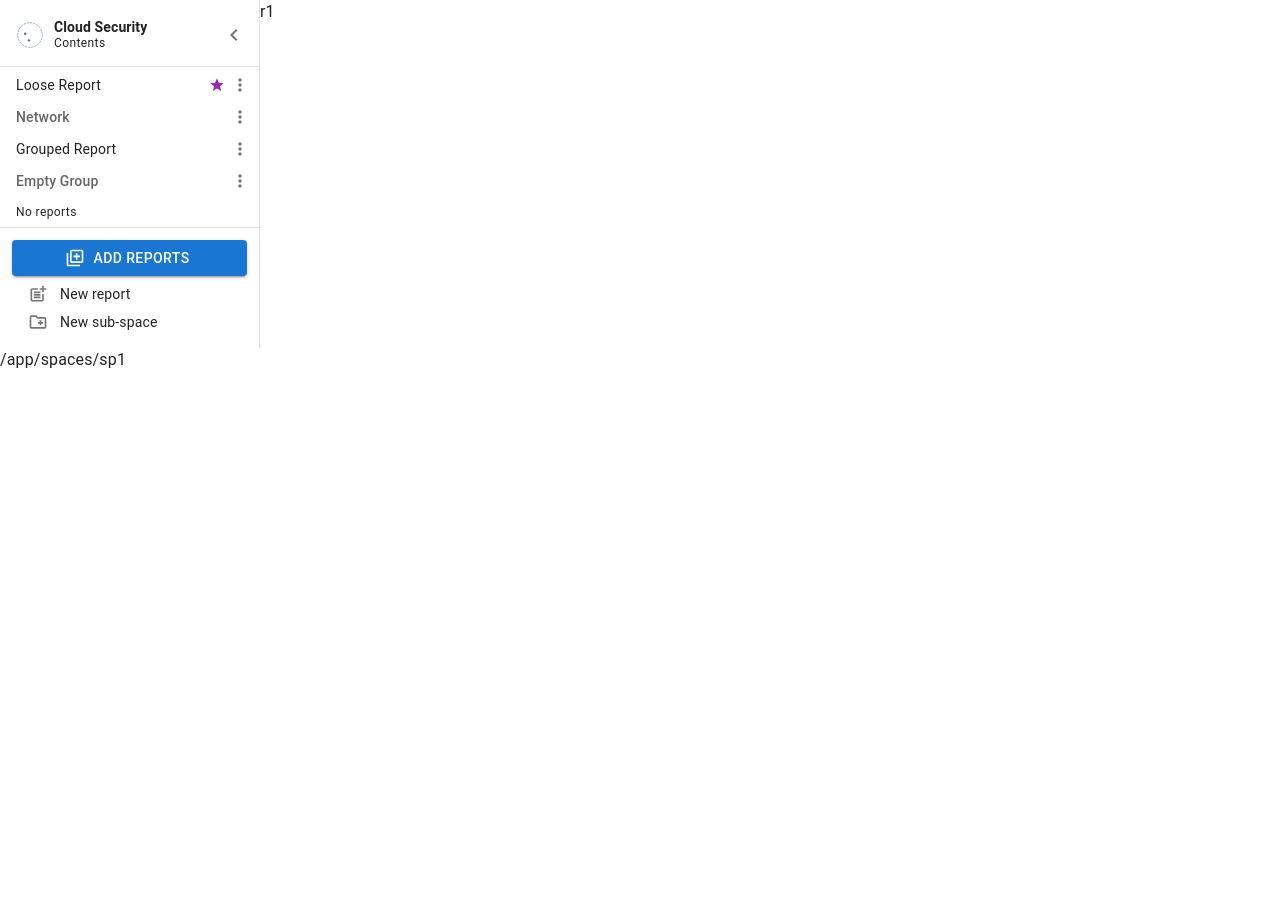
Test: SpaceDetail › lists only reports outside the space, flagging drafts and moves
Click the button "Add reports".
click(130, 258)  # box x1=12 y1=240 x2=247 y2=276
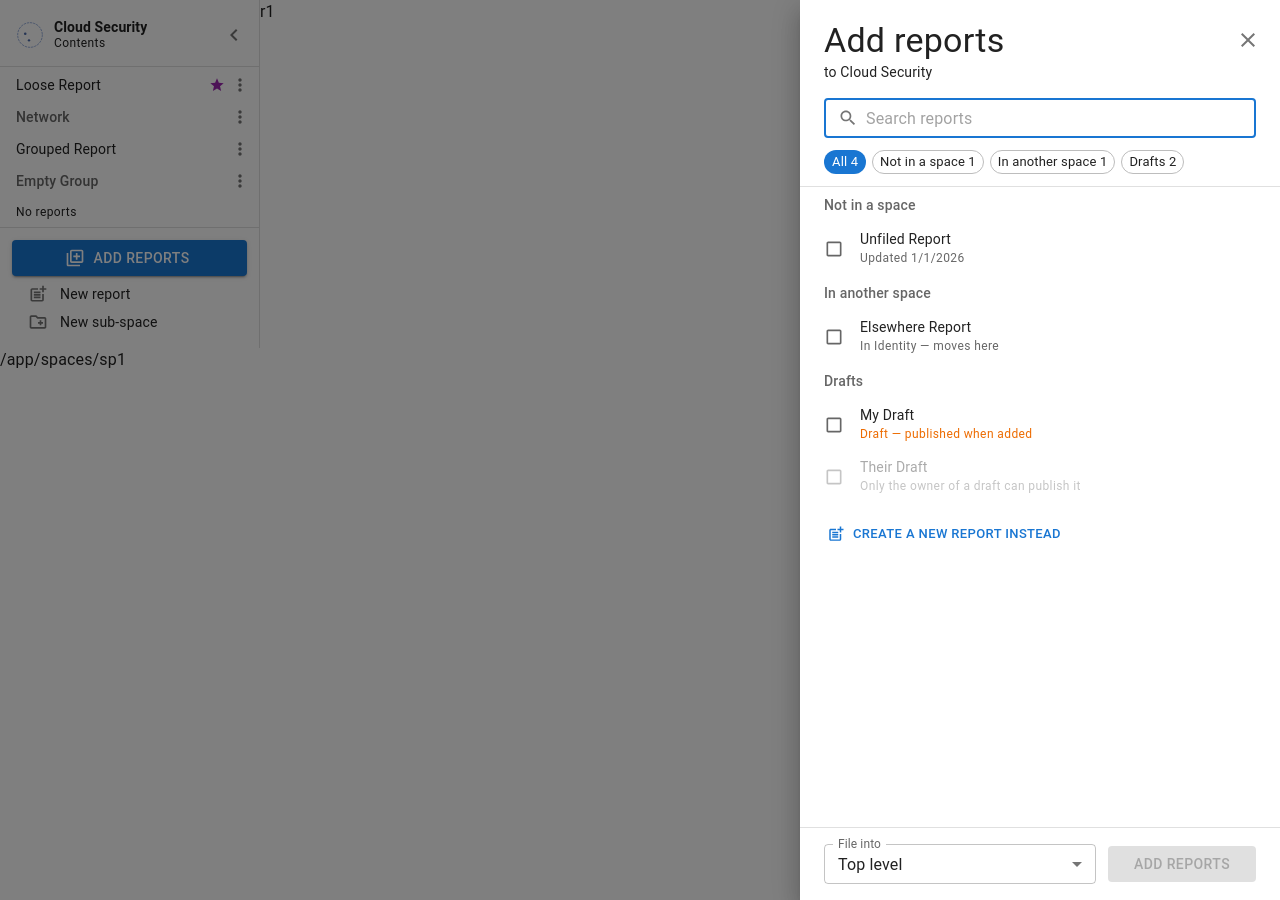
Expected: the text "Unfiled Report" is shown, x1=860 y1=231 x2=951 y2=247
Expected: the text "In Identity — moves here" is shown, x1=860 y1=339 x2=999 y2=353
Expected: the text "Draft — published when added" is shown, x1=860 y1=427 x2=1032 y2=441
